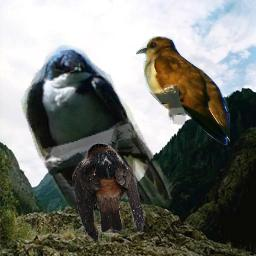Cuckoo: (136, 36, 230, 147)
Swallow: (21, 45, 176, 231), (72, 143, 145, 243)
